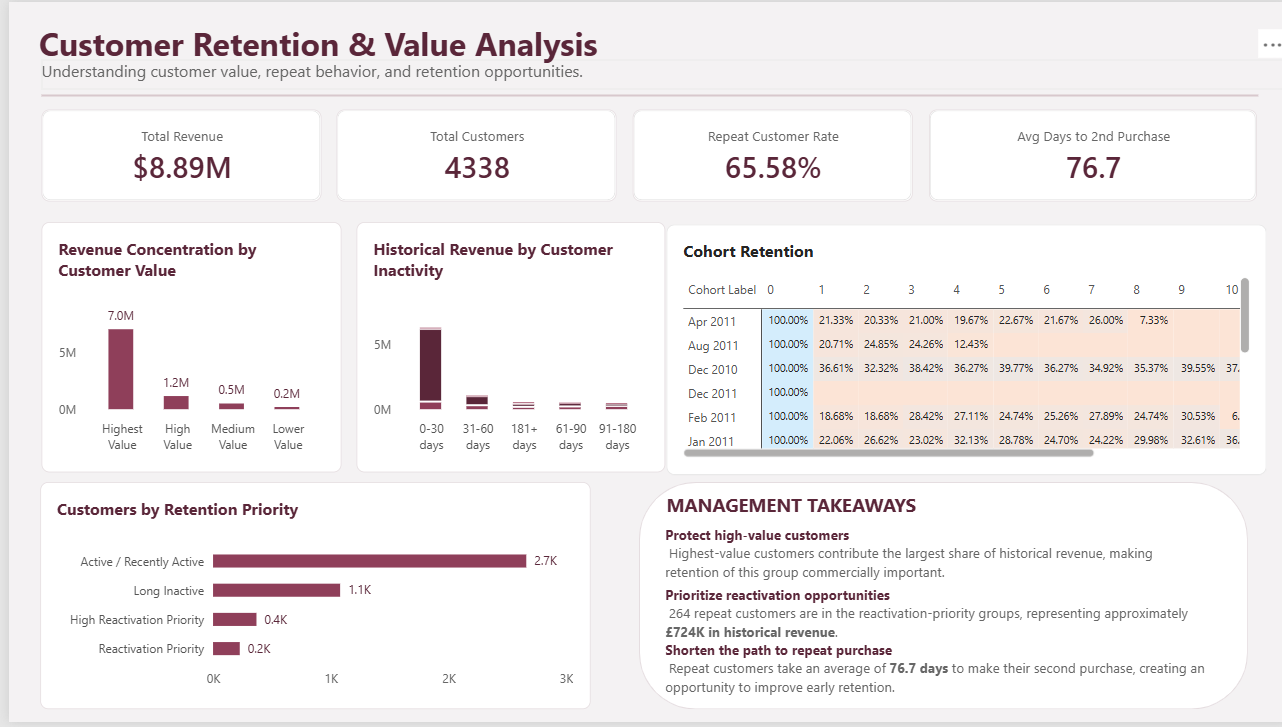

The page's visual inventory and layout, read from the dashboard file:
{"tool":"powerbi","page":{"name":"Page 1","canvas":[1280,720],"ordinal":0},"visuals":[{"type":"cardVisual","fields":{"Data":["transactions_clean.Total Revenue"]},"box":[32,108,280,92],"z":0},{"type":"cardVisual","fields":{"Data":["transactions_clean.Total Customers"]},"box":[328,108,280,92],"z":1000},{"type":"cardVisual","fields":{"Data":["transactions_clean.Repeat Customer Rate"]},"box":[624,108,280,92],"z":2000},{"type":"clusteredColumnChart","title":"Revenue Concentration by Customer Value","fields":{"Category":["Customer Summary.Customer Value Group"],"Y":["Sum(Customer Summary.Total Revenue)"]},"box":[32,220,300,250],"z":3000},{"type":"columnChart","title":"Historical Revenue by Customer Inactivity","fields":{"Category":["Customer Summary.Inactivity Band"],"Series":["Customer Summary.Customer Value Group"],"Y":["Sum(Customer Summary.Total Revenue)"]},"box":[347.7,220,308.5,250],"z":4000},{"type":"cardVisual","fields":{"Data":["Customer Summary.Avg Days to 2nd Purchase"]},"box":[920,108,328,92],"z":5000},{"type":"pivotTable","title":"Cohort Retention","fields":{"Columns":["Cohort Activity.Months Since Cohort"],"Rows":["Cohort Activity.Cohort Label"],"Values":["Cohort Activity.Cohort Retention %"]},"box":[658,222,600,250],"z":6000},{"type":"clusteredBarChart","title":"Customers by Retention Priority","fields":{"Category":["Customer Summary.Retention Priority"],"Y":["CountNonNull(Customer Summary.CustomerID)"]},"box":[31.4,480,550,227.1],"z":7000},{"type":"textbox","box":[32,57,1248,30],"z":9000},{"type":"shape","box":[32,88,1217,12],"z":10000},{"type":"shape","box":[630,480,609,227.5],"z":11000},{"type":"textbox","box":[658,490,560,30],"z":12000},{"type":"textbox","box":[656,523,500,59],"z":13000},{"type":"textbox","box":[656,583,560,55],"z":14000},{"type":"textbox","box":[656,638,574,62],"z":14001},{"type":"textbox","box":[30,20,578,52],"z":14002}]}

Visuals, with their boxes in screenshot pixels (x1, y1, x2, y2), scaled from the page's 1280x720 canvas onto the 1282x727 screenshot:
cardVisual - transactions_clean.Total Revenue: 32/109/312/202
cardVisual - transactions_clean.Total Customers: 329/109/609/202
cardVisual - transactions_clean.Repeat Customer Rate: 625/109/905/202
"Revenue Concentration by Customer Value" clusteredColumnChart: 32/222/333/475
"Historical Revenue by Customer Inactivity" columnChart: 348/222/657/475
cardVisual - Customer Summary.Avg Days to 2nd Purchase: 921/109/1250/202
"Cohort Retention" pivotTable: 659/224/1260/477
"Customers by Retention Priority" clusteredBarChart: 31/485/582/714
textbox: 32/58/1281/88
shape: 32/89/1251/101
shape: 631/485/1241/714
textbox: 659/495/1220/525
textbox: 657/528/1158/588
textbox: 657/589/1218/644
textbox: 657/644/1232/707
textbox: 30/20/609/73
